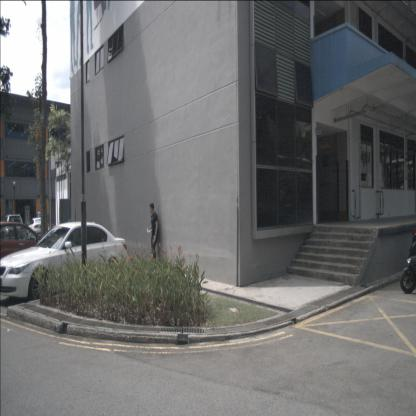human-pedestrian-adult: (147, 203, 158, 266)
vehicle-car: (0, 219, 128, 301), (0, 220, 63, 286), (0, 221, 55, 272), (3, 215, 24, 240), (26, 217, 48, 236)
vehicle-motorcycle: (400, 225, 416, 295)
